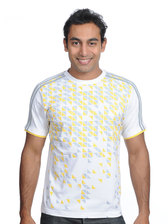clothoes: (23, 66, 149, 218)
